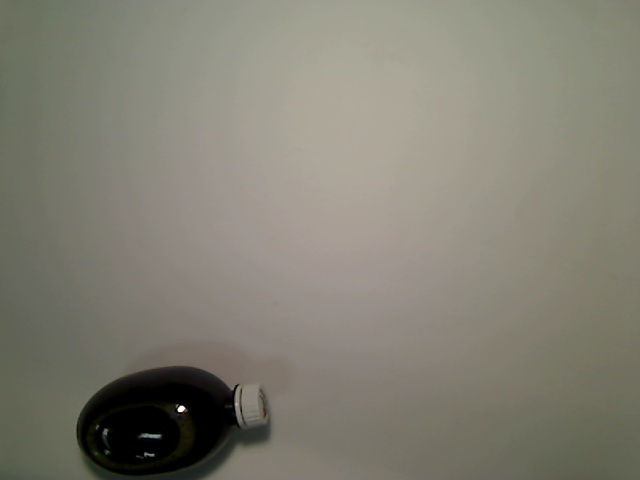plast_bottle: (76, 364, 271, 478)
